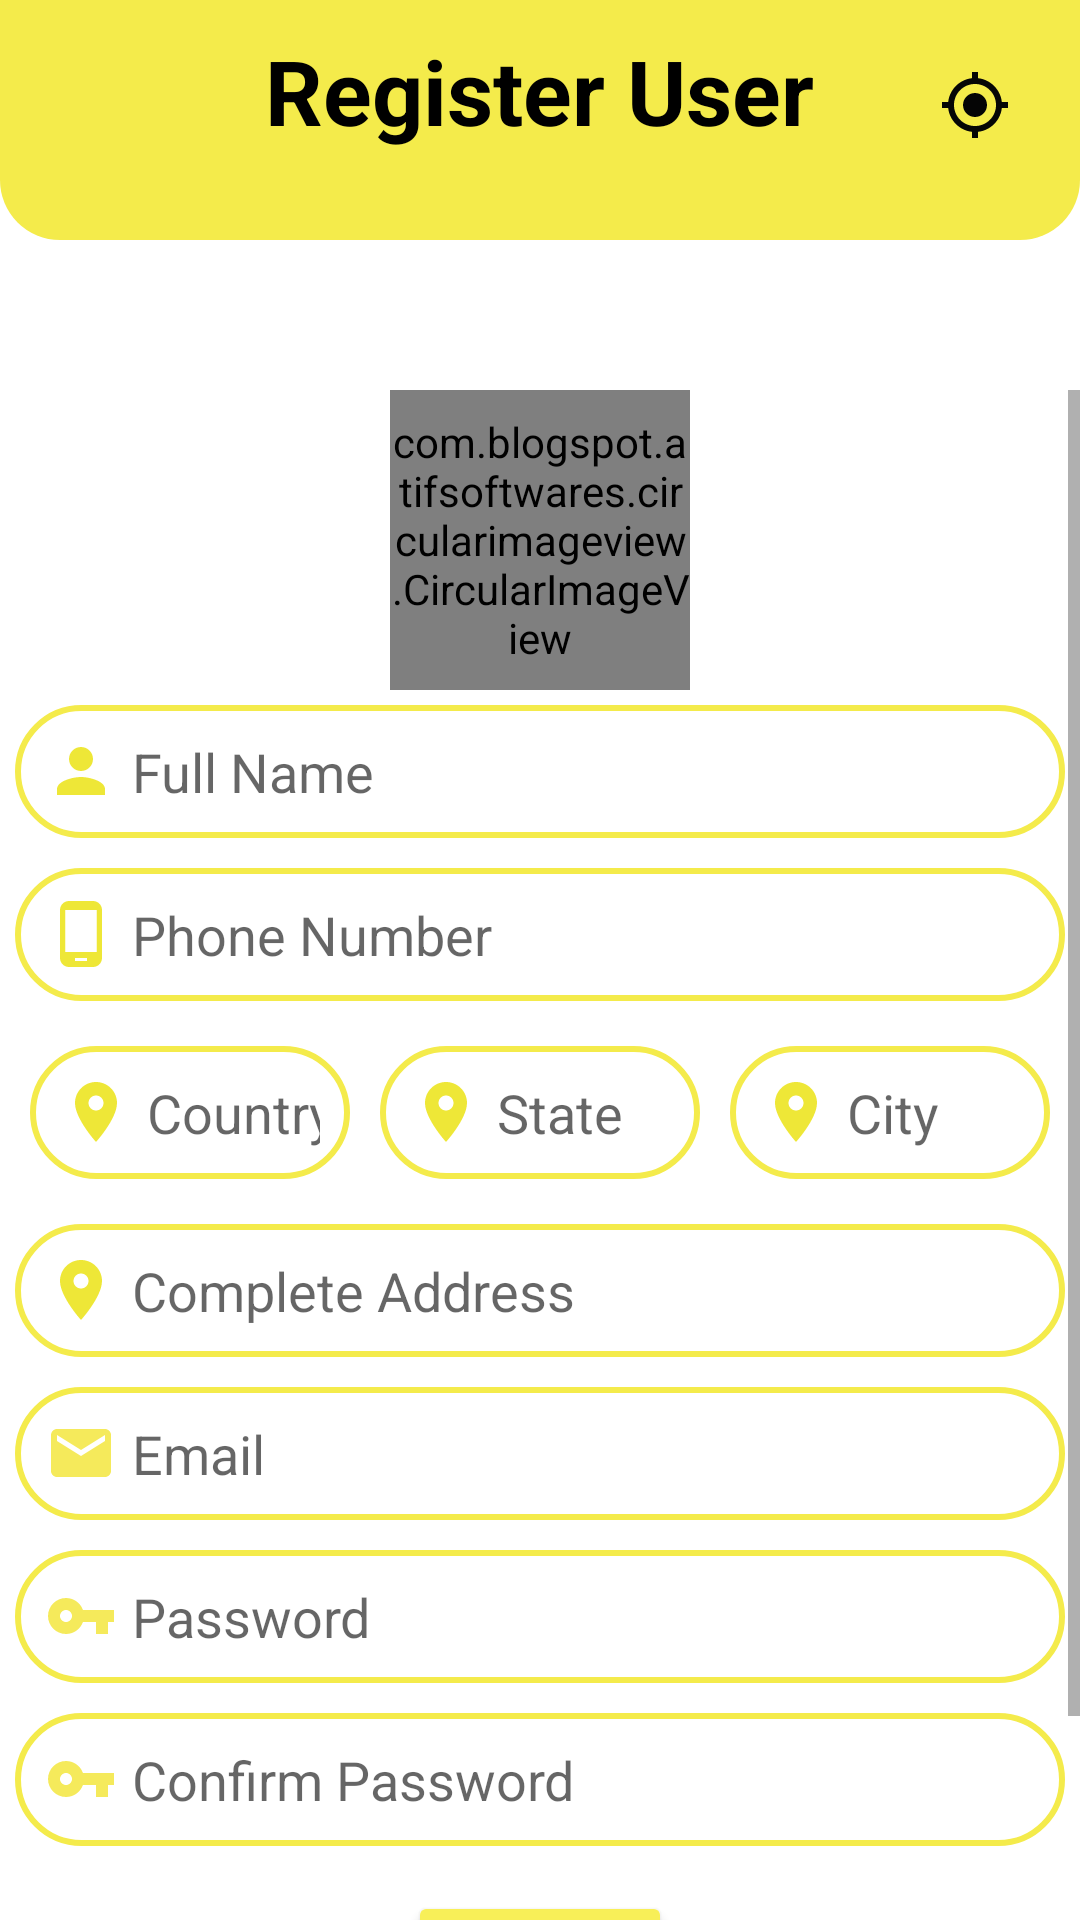

Where to tap for icons on this 1080*1920 app screen, as point (x, y):
gps fixed: point (975, 105)
